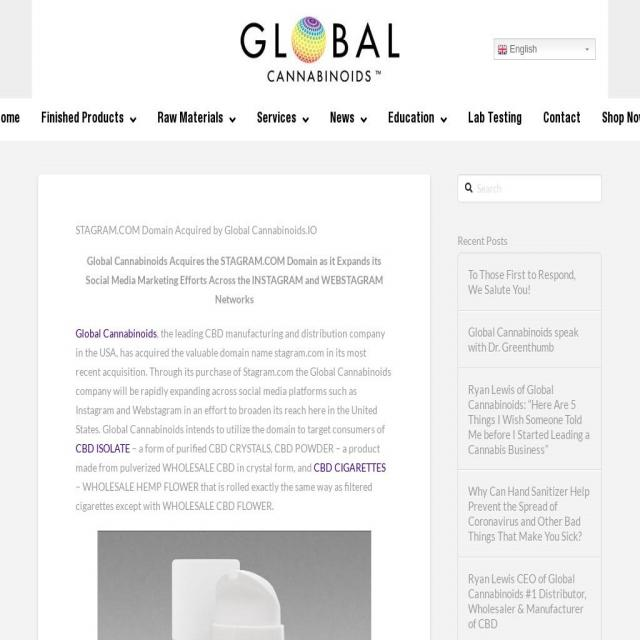button: (96, 530, 371, 640), (232, 5, 411, 91), (458, 368, 602, 469), (458, 470, 601, 556), (458, 557, 600, 639), (459, 253, 601, 310), (458, 312, 602, 367), (30, 98, 147, 141), (146, 98, 246, 141), (377, 98, 457, 141), (457, 98, 532, 141), (246, 98, 320, 141), (318, 98, 378, 141), (532, 98, 591, 141), (493, 38, 596, 60), (590, 98, 640, 140), (0, 98, 31, 141)
field: (457, 174, 602, 203)
